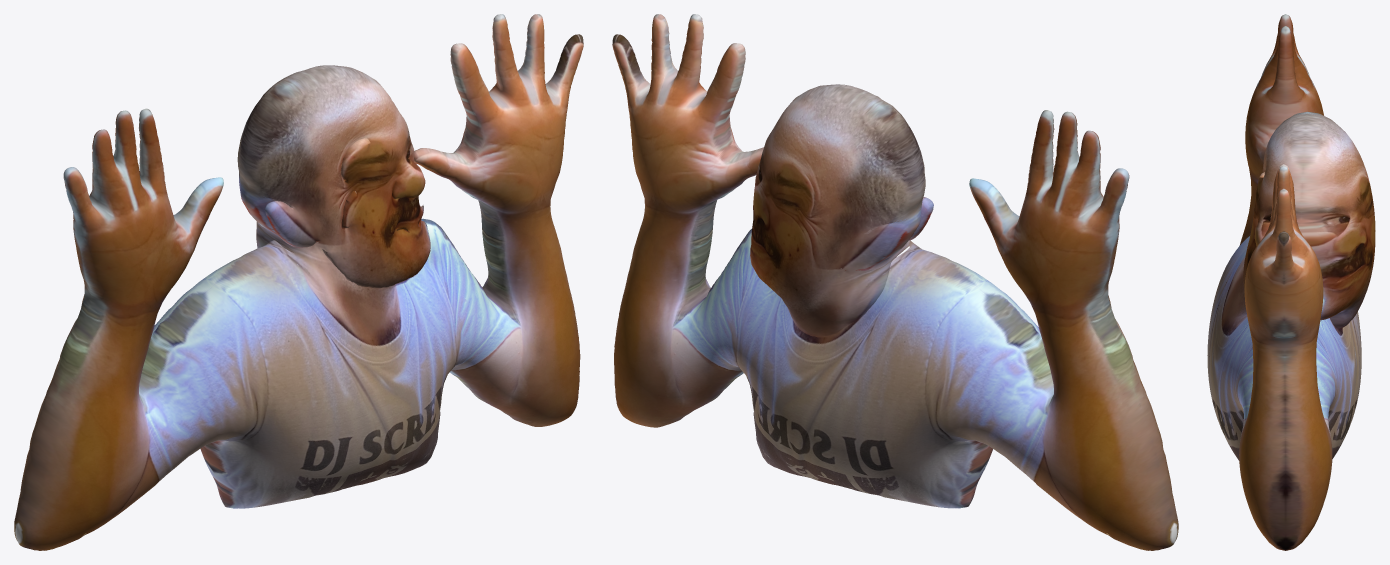
The model's file is smushface.glb.
3 renders of one model, left to right at view 1: azimuth 30°, elevation 25°; view 2: azimuth 150°, elevation 25°; view 3: azimuth 270°, elevation 25°, orthographic. The views are drawn at different scales.
Parts seen in each view (by area): view 1: Mesh_0.002; view 2: Mesh_0.002; view 3: Mesh_0.002.
Boxes of the visible parts, x1,y1,x2,y2 form: Mesh_0.002: [14, 14, 583, 550]; Mesh_0.002: [612, 14, 1178, 550]; Mesh_0.002: [1207, 14, 1375, 550].
Size of the model in its own units: 7.85 by 5.71 by 2.37.
Materials: 1 (1 with a texture image).
